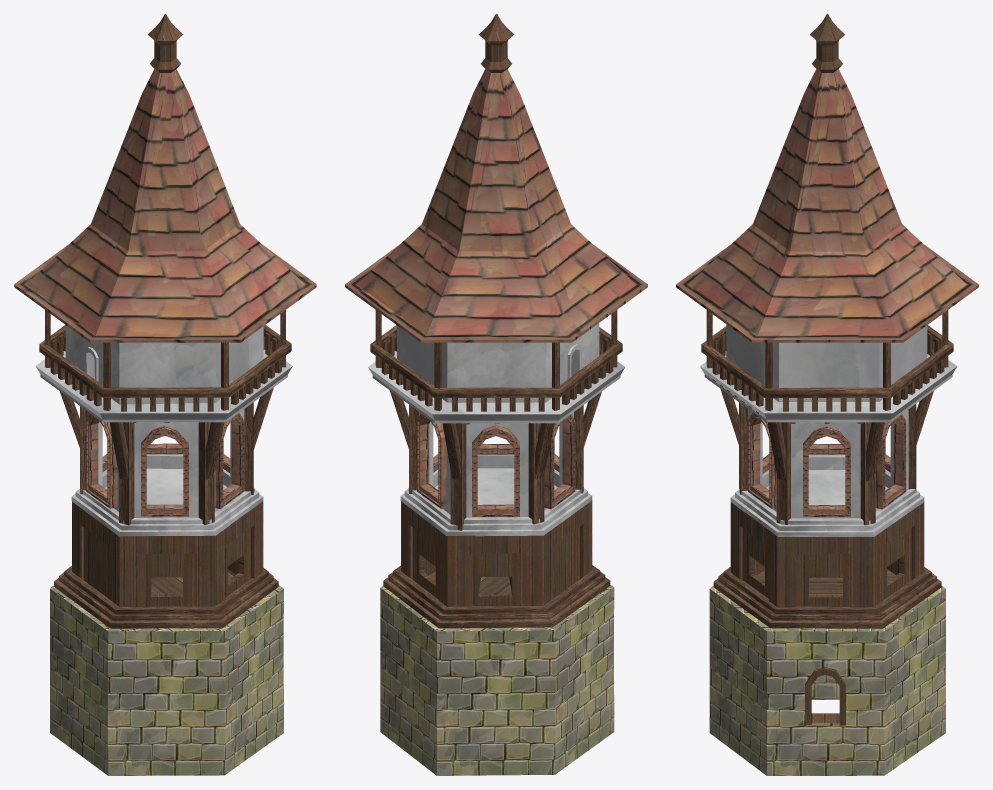
Rendered from yuki_tower.fbx.
3 views of the same model, side by side, from view 1: azimuth 30°, elevation 25°; view 2: azimuth 150°, elevation 25°; view 3: azimuth 270°, elevation 25° (orthographic).
Parts seen in each view (by area): view 1: tower; view 2: tower; view 3: tower.
Part boxes in pixels (left/top/right/bottom): tower: left=14, top=14, right=316, bottom=775; tower: left=345, top=14, right=647, bottom=775; tower: left=676, top=14, right=978, bottom=775.
Bounding box in the file's own units: 537 × 1625 × 621.
